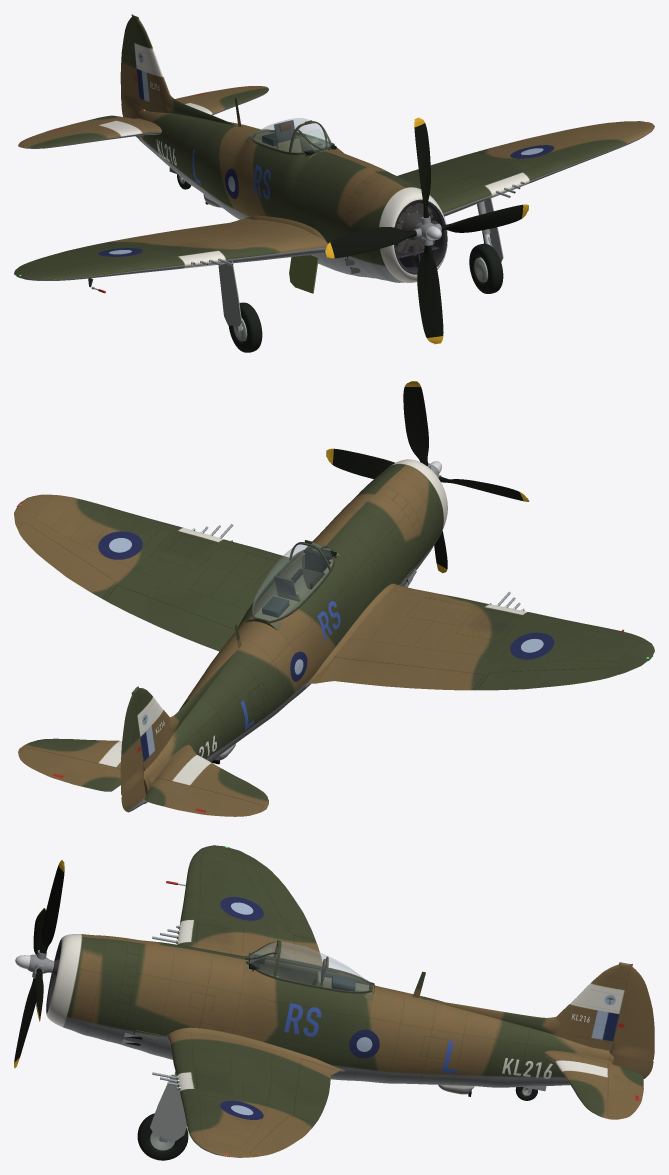
Rendered from original-cc0.glb.
3 renders of one model, top to bottom at view 1: azimuth 30°, elevation 25°; view 2: azimuth 150°, elevation 25°; view 3: azimuth 270°, elevation 25°, orthographic.
Visible parts, largest first — view 1: aileron, aerial_mast, brake_1, cowl_lip, gunsight_glass; view 2: aileron, aerial_mast, brake_1, gunsight_glass, cowl_lip; view 3: cowl_lip, aileron, brake_1, gunsight_glass, aerial_mast.
Boxes of the visible parts, x1,y1,x2,y2 form: aileron: [14, 86, 654, 287]; aerial_mast: [88, 14, 417, 286]; brake_1: [91, 82, 554, 352]; cowl_lip: [132, 15, 521, 274]; gunsight_glass: [252, 118, 332, 152]; aileron: [14, 494, 654, 816]; aerial_mast: [120, 460, 523, 812]; brake_1: [98, 381, 624, 764]; gunsight_glass: [252, 543, 332, 620]; cowl_lip: [120, 459, 412, 779]; cowl_lip: [46, 936, 654, 1091]; aileron: [136, 845, 643, 1157]; brake_1: [14, 860, 589, 1160]; gunsight_glass: [246, 942, 370, 991]; aerial_mast: [61, 926, 621, 1051].
Size of the model in its own units: 12.44 by 4.5 by 10.88.
Materials: 10 (10 with a texture image).
